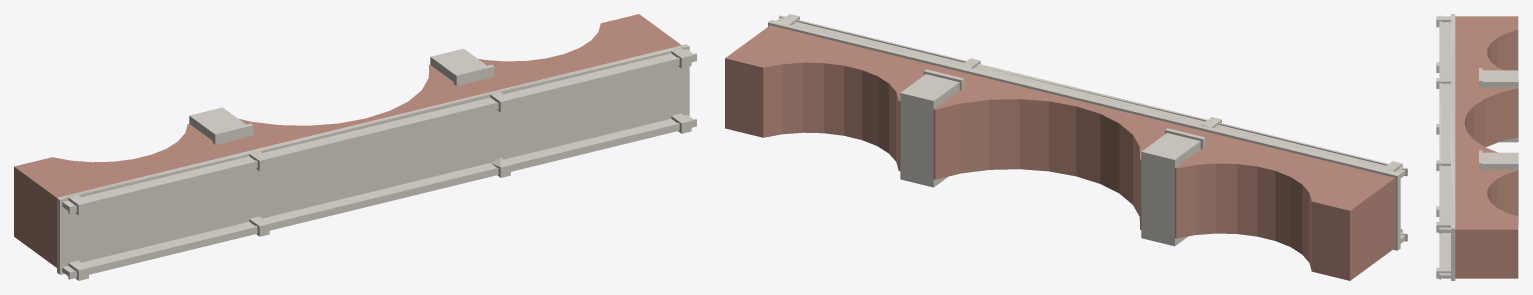
File: r-142-weeks-footbridge.glb
3 views of the same model, side by side, from view 1: azimuth 30°, elevation 25°; view 2: azimuth 150°, elevation 25°; view 3: azimuth 270°, elevation 25° (orthographic). The views are drawn at different scales.
Visible parts, largest first — view 1: stone-trim, brick-arches; view 2: brick-arches, stone-trim; view 3: brick-arches, stone-trim.
Part boxes in pixels (x1,y1,x2,y2): stone-trim: (57, 44, 696, 280); brick-arches: (14, 14, 681, 267); brick-arches: (725, 25, 1395, 280); stone-trim: (768, 14, 1407, 250); brick-arches: (1455, 16, 1518, 278); stone-trim: (1436, 14, 1518, 280).
Size of the model in its own units: 56400 by 7801 by 9102.
